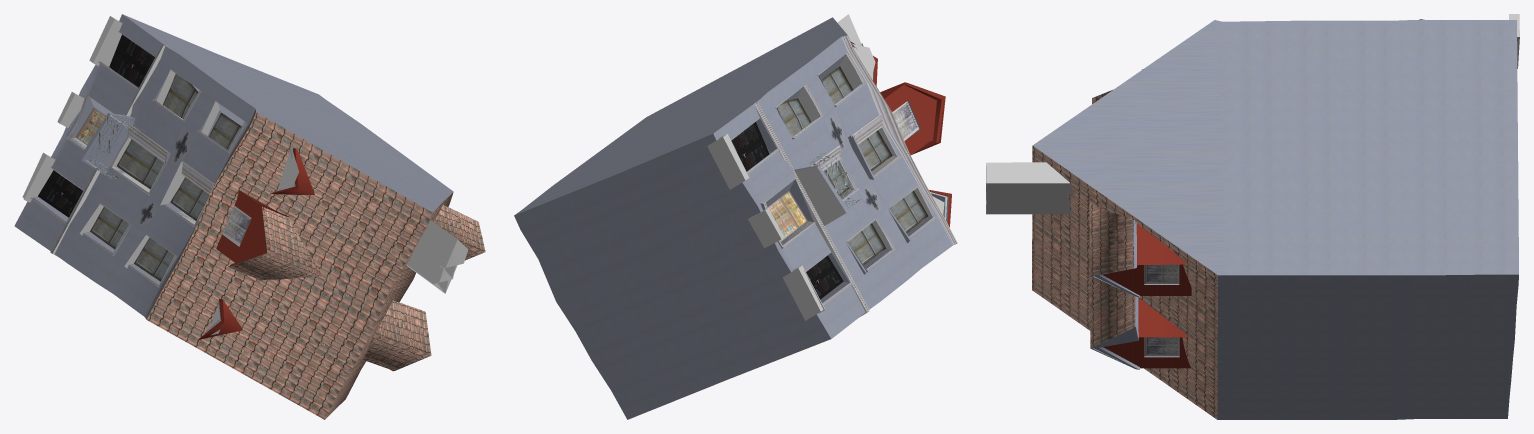
Rendered from Olevimagi_6-origo.obj.
3 renders of one model, left to right at view 1: azimuth 30°, elevation 25°; view 2: azimuth 150°, elevation 25°; view 3: azimuth 270°, elevation 25°, orthographic. The views are drawn at different scales.
Visible parts, largest first — view 1: polySurface168; view 2: polySurface168; view 3: polySurface168.
Part boxes in pixels (x1,y1,x2,y2): polySurface168: (14, 14, 485, 419); polySurface168: (514, 14, 957, 419); polySurface168: (986, 14, 1519, 419).
Bounding box in the file's own units: 12.62 × 12 × 16.6.
